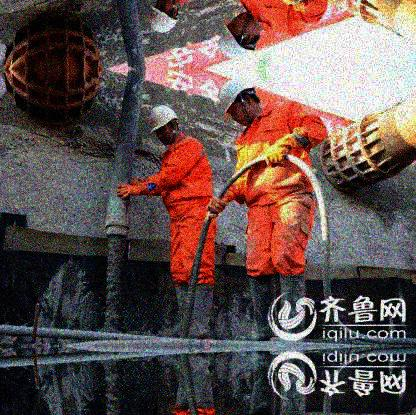helmet: (218, 80, 265, 127), (216, 11, 259, 61), (147, 105, 182, 146), (147, 1, 180, 34)
